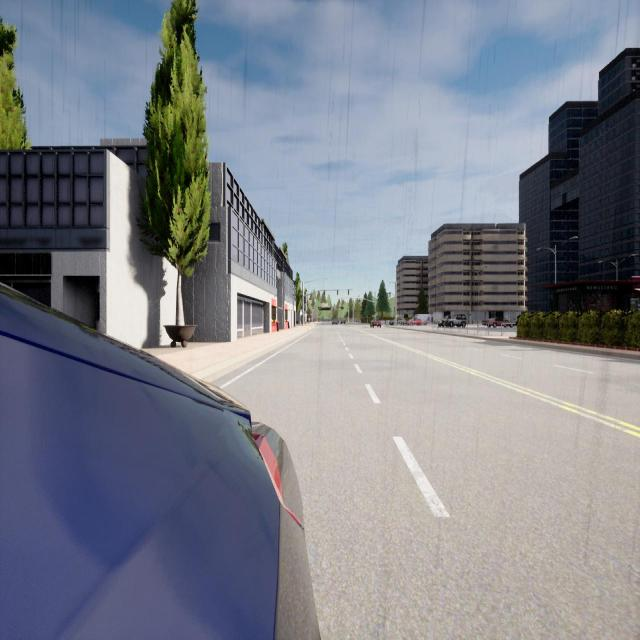Vehicle: (0, 284, 319, 638), (482, 316, 515, 328), (448, 314, 467, 328), (412, 314, 432, 325), (389, 318, 406, 326), (438, 316, 449, 328), (407, 318, 422, 326), (370, 318, 381, 328), (332, 319, 338, 325), (340, 320, 346, 325)
traffic_light: (304, 304, 306, 310), (374, 310, 376, 314), (394, 306, 395, 312), (348, 289, 349, 295), (324, 290, 325, 295), (337, 290, 338, 295), (359, 298, 360, 301), (390, 292, 390, 296), (342, 298, 342, 301), (350, 299, 350, 302)
